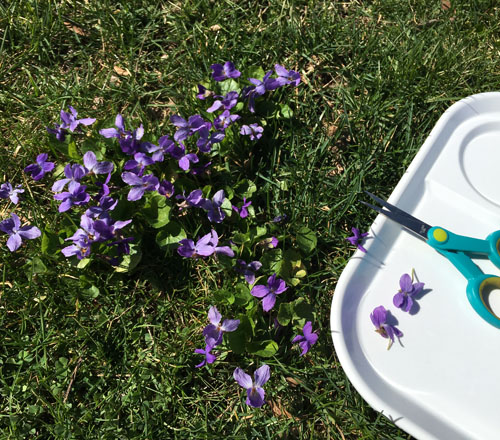violet: (14, 109, 310, 384), (391, 272, 426, 318), (371, 305, 402, 346)
